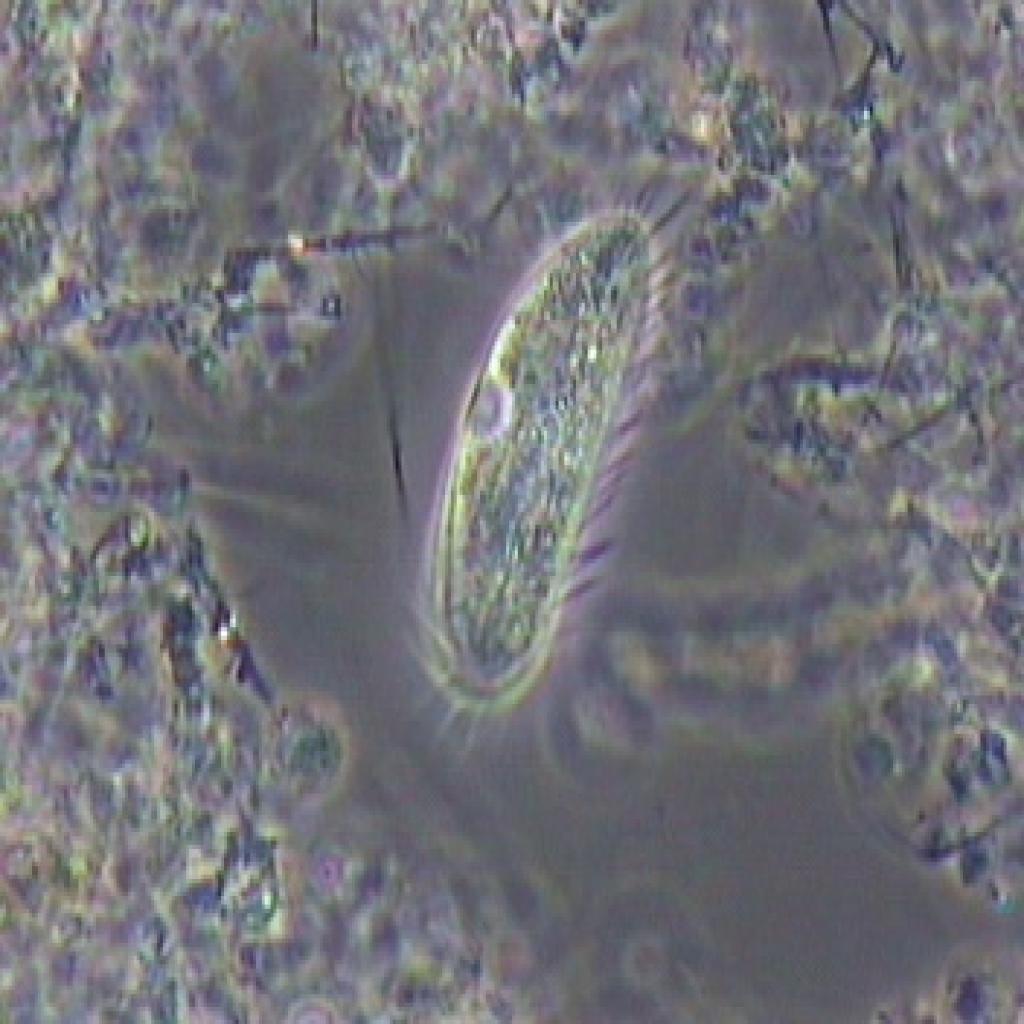Stylonychia: (361, 183, 704, 764)
